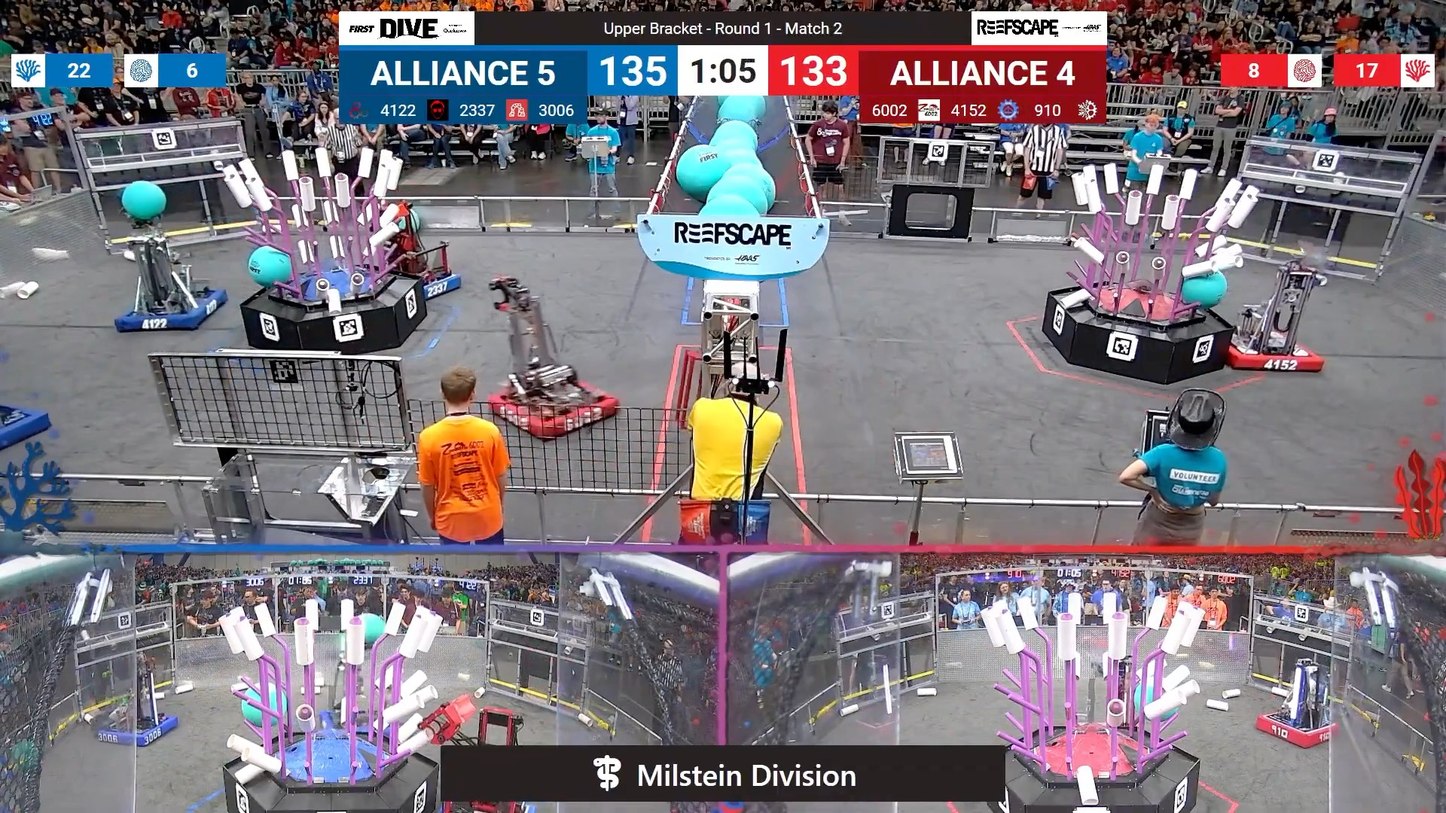bumpers: (479, 373, 626, 440), (113, 285, 234, 337), (1218, 327, 1329, 379), (0, 398, 60, 470), (90, 708, 185, 752), (1249, 708, 1347, 750), (392, 263, 468, 300)
